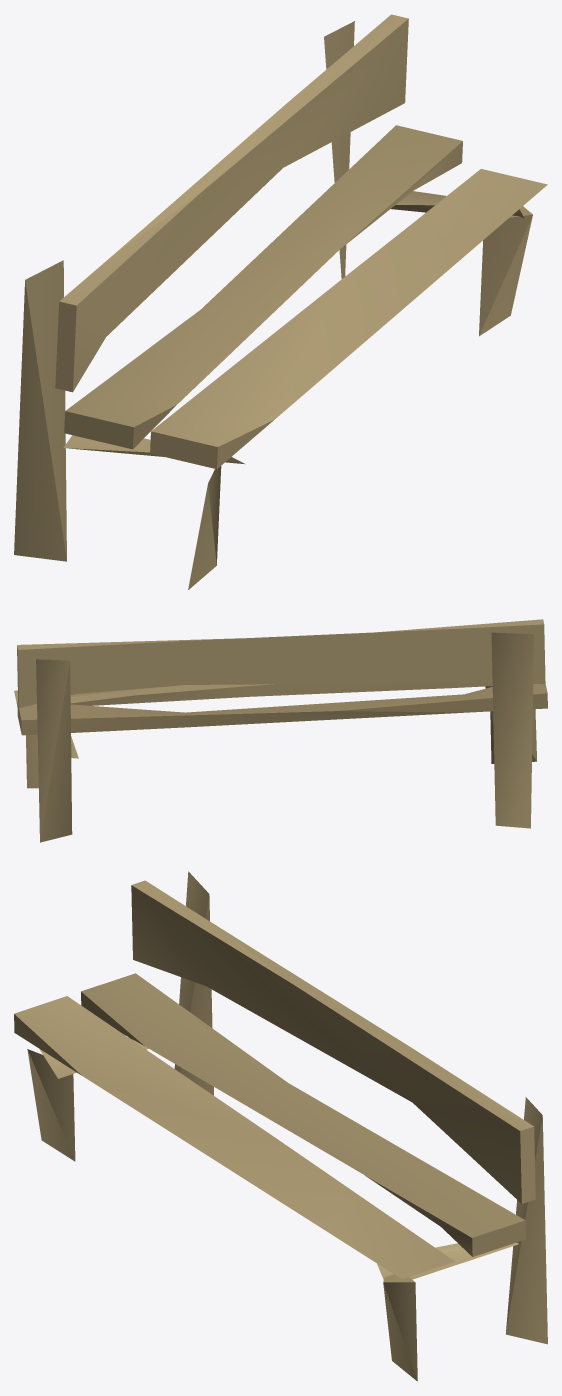
File: bench.fbx
3 views of the same model, one above another, from view 1: azimuth 30°, elevation 25°; view 2: azimuth 150°, elevation 25°; view 3: azimuth 270°, elevation 25° (orthographic). The views are drawn at different scales.
Parts seen in each view (by area): view 1: bench_01.001; view 2: bench_01.001; view 3: bench_01.001.
Boxes of the visible parts, x1,y1,x2,y2 form: bench_01.001: [14, 14, 547, 589]; bench_01.001: [14, 619, 547, 842]; bench_01.001: [14, 871, 547, 1381].
Bounding box in the file's own units: 405 × 170 × 330.
